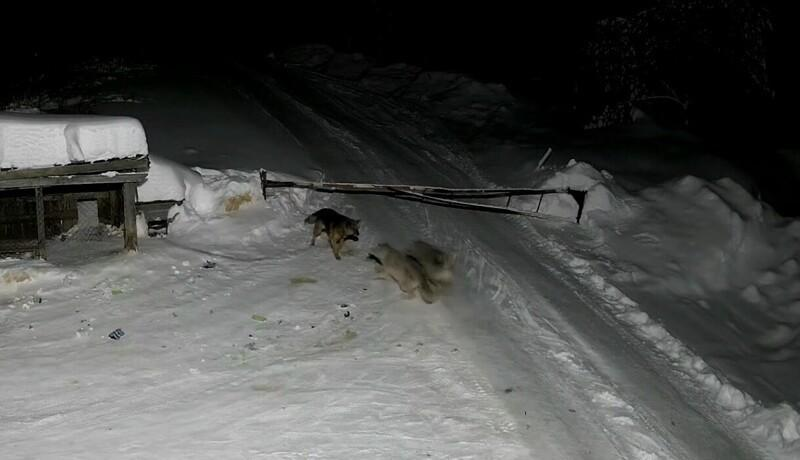dog_aggressive: (366, 241, 439, 304), (304, 206, 362, 267)
